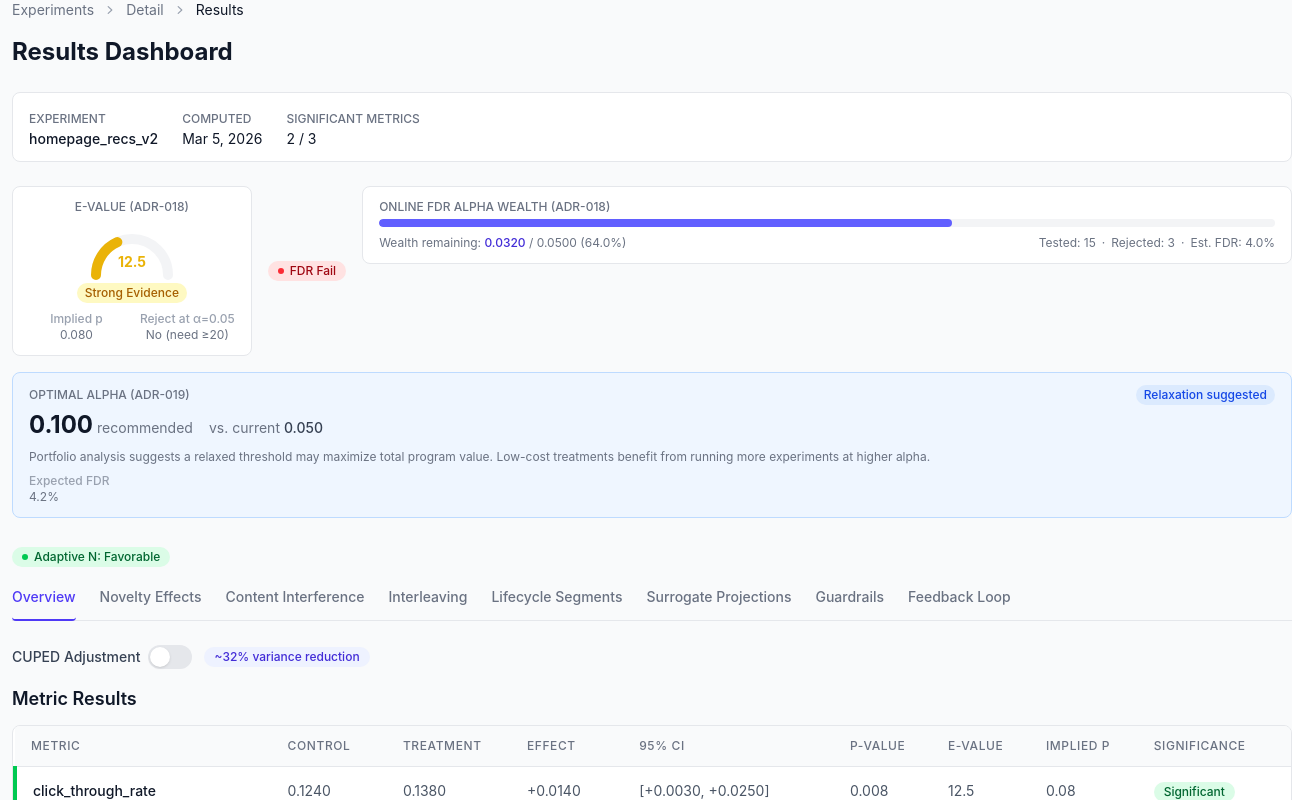
it: Lifecycle Segments Tab - homepage_recs_v2 › shows BH FDR correction note
Click the tab "Lifecycle Segments" at (557, 602), box [492,583,622,621]
(page scrolled)
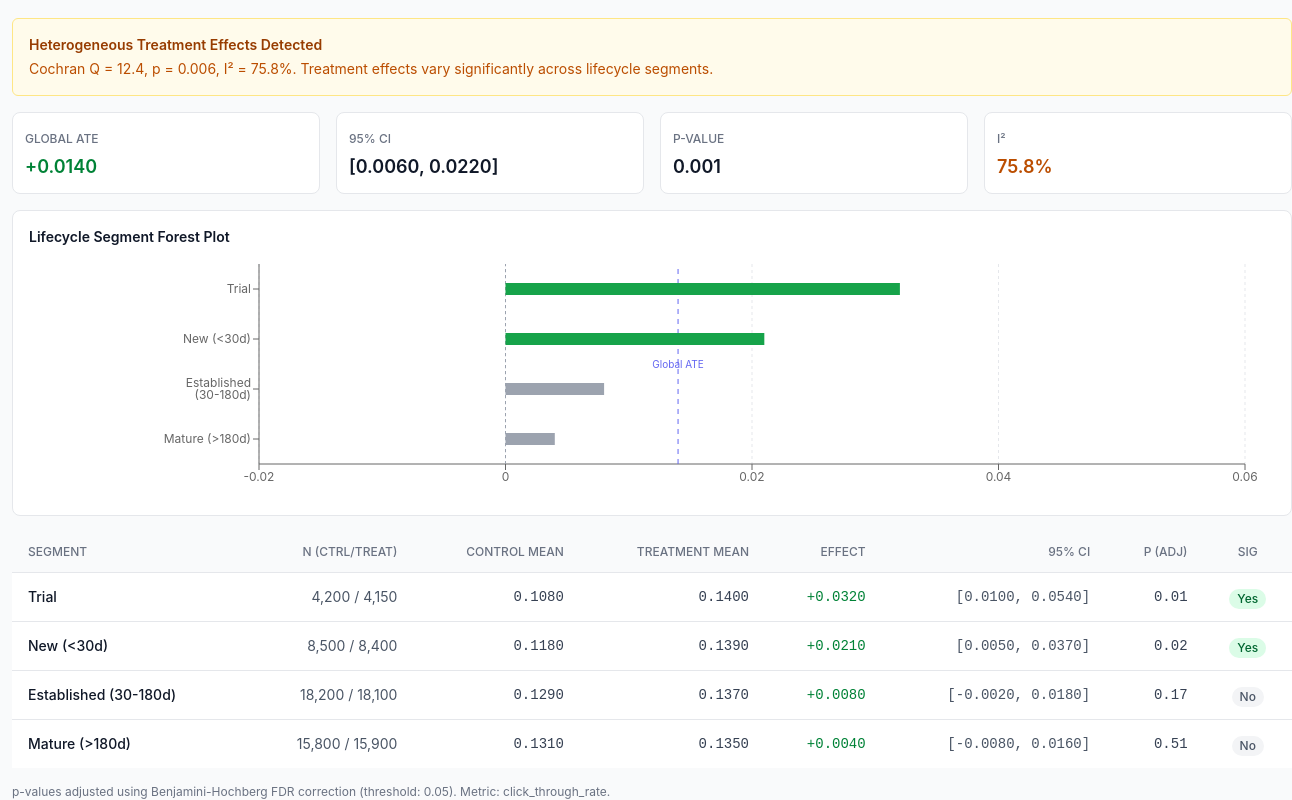
Result: the text "Benjamini-Hochberg FDR" is shown at [12,784,424,799]
